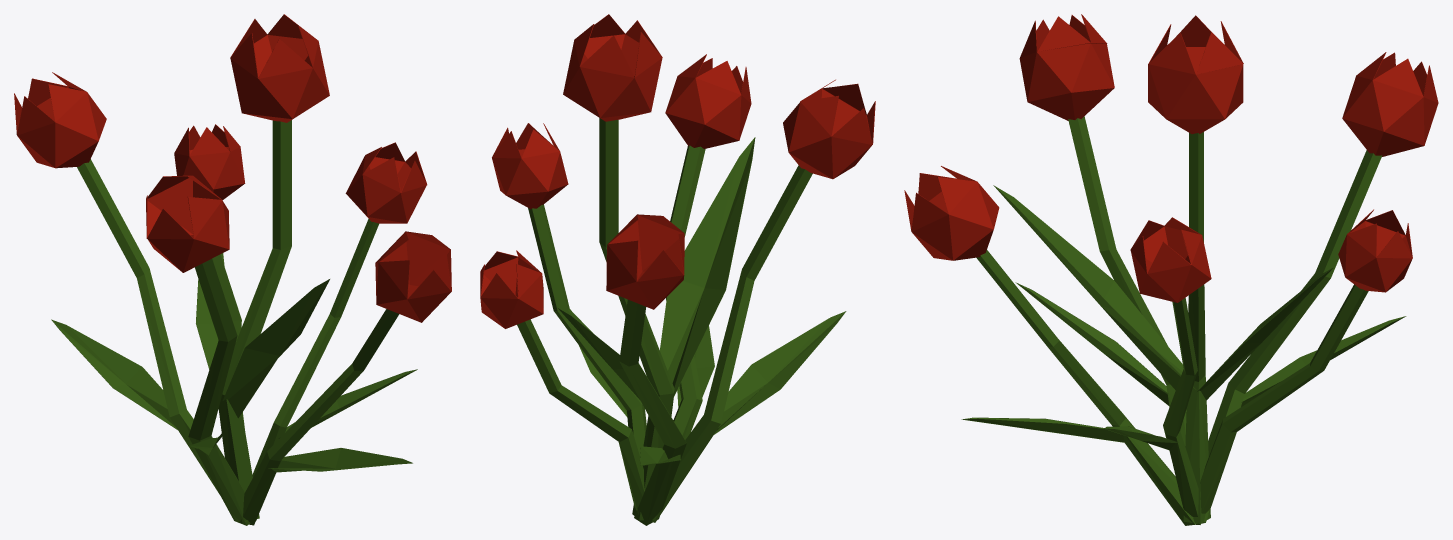
File: infinitegarden_flowers.glb
3 renders of one model, left to right at view 1: azimuth 30°, elevation 25°; view 2: azimuth 150°, elevation 25°; view 3: azimuth 270°, elevation 25°, orthographic. The views are drawn at different scales.
Parts seen in each view (by area): view 1: Roses_Icosphere; view 2: Roses_Icosphere; view 3: Roses_Icosphere.
Boxes of the visible parts, x1,y1,x2,y2 form: Roses_Icosphere: [14, 14, 451, 525]; Roses_Icosphere: [480, 14, 875, 525]; Roses_Icosphere: [904, 14, 1438, 525].
Size of the model in its own units: 0.8184 by 1.2 by 1.12.
